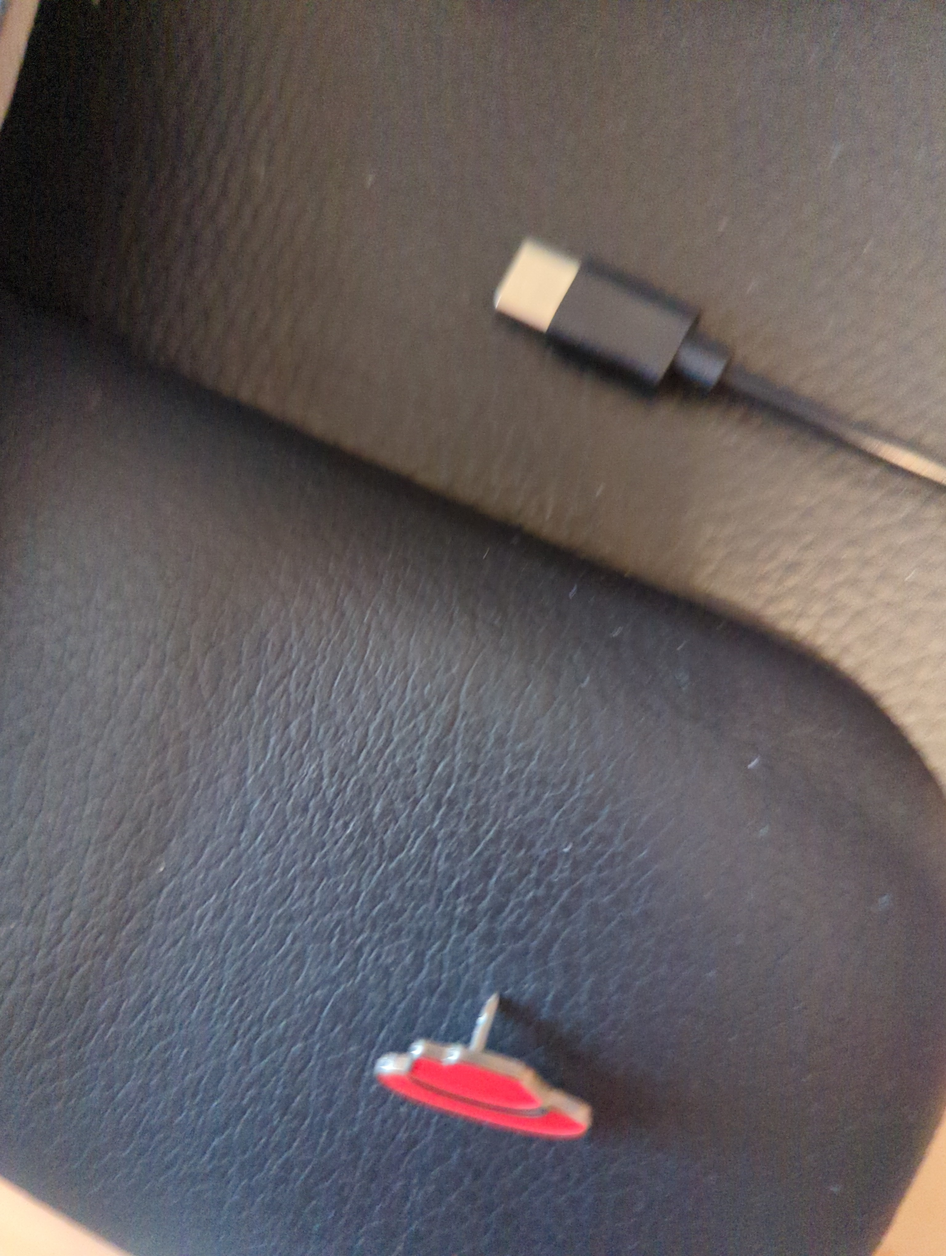Red-Hat: (305, 902, 695, 1251)
